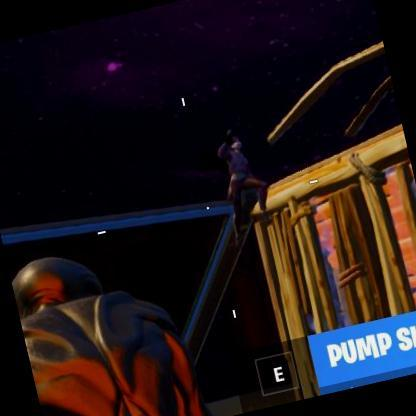person: (212, 127, 274, 236)
